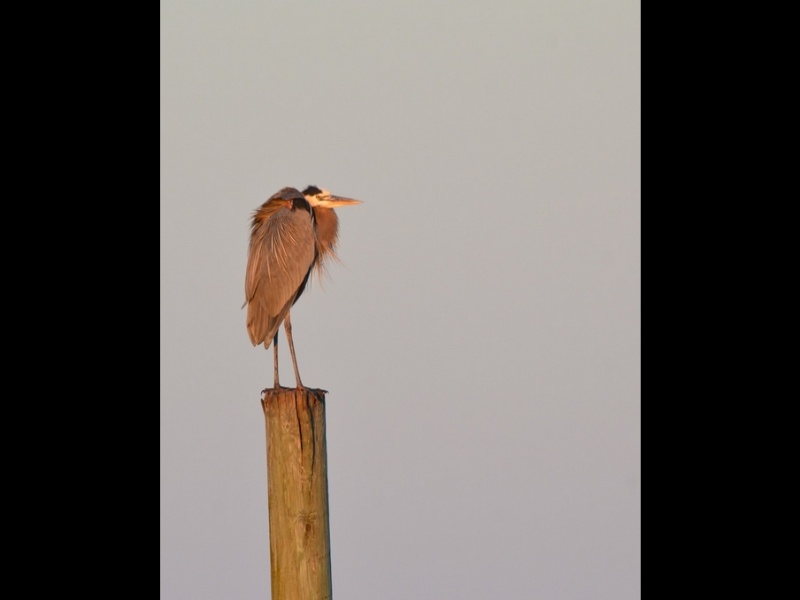heron: (240, 182, 366, 394)
